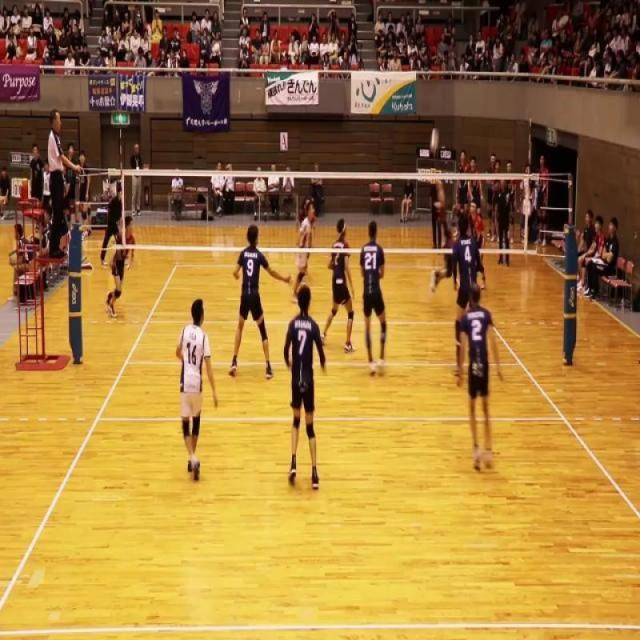volleyball: (430, 125, 439, 158)
